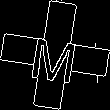M_N: (28, 26, 82, 84)
